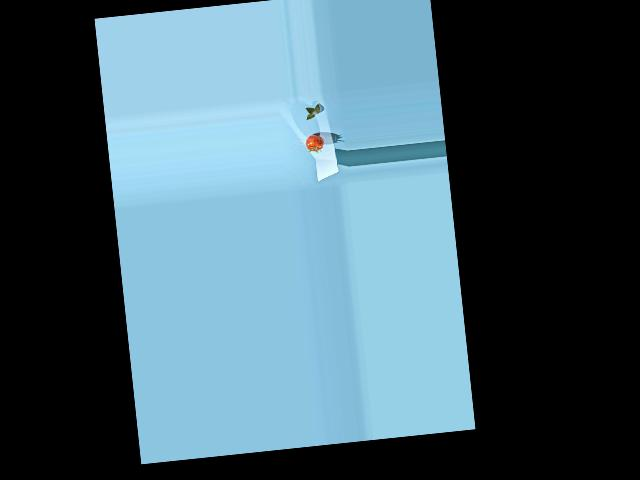tomato: (304, 134, 325, 152)
